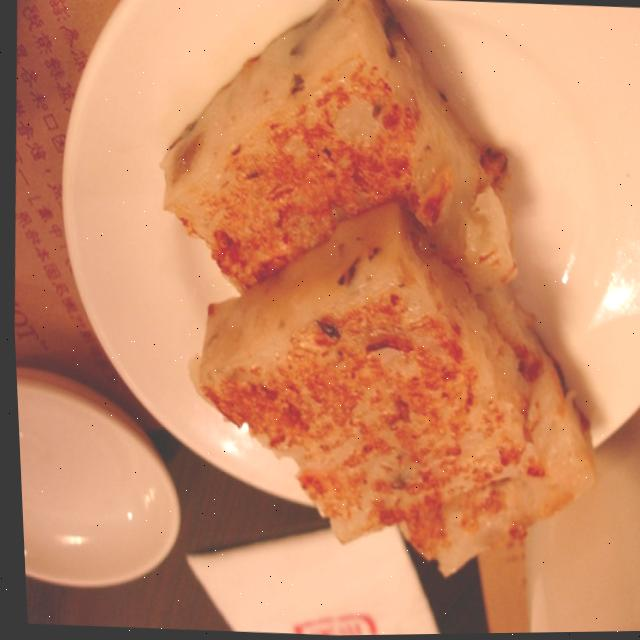蛋糕甜品: (55, 0, 640, 582)
